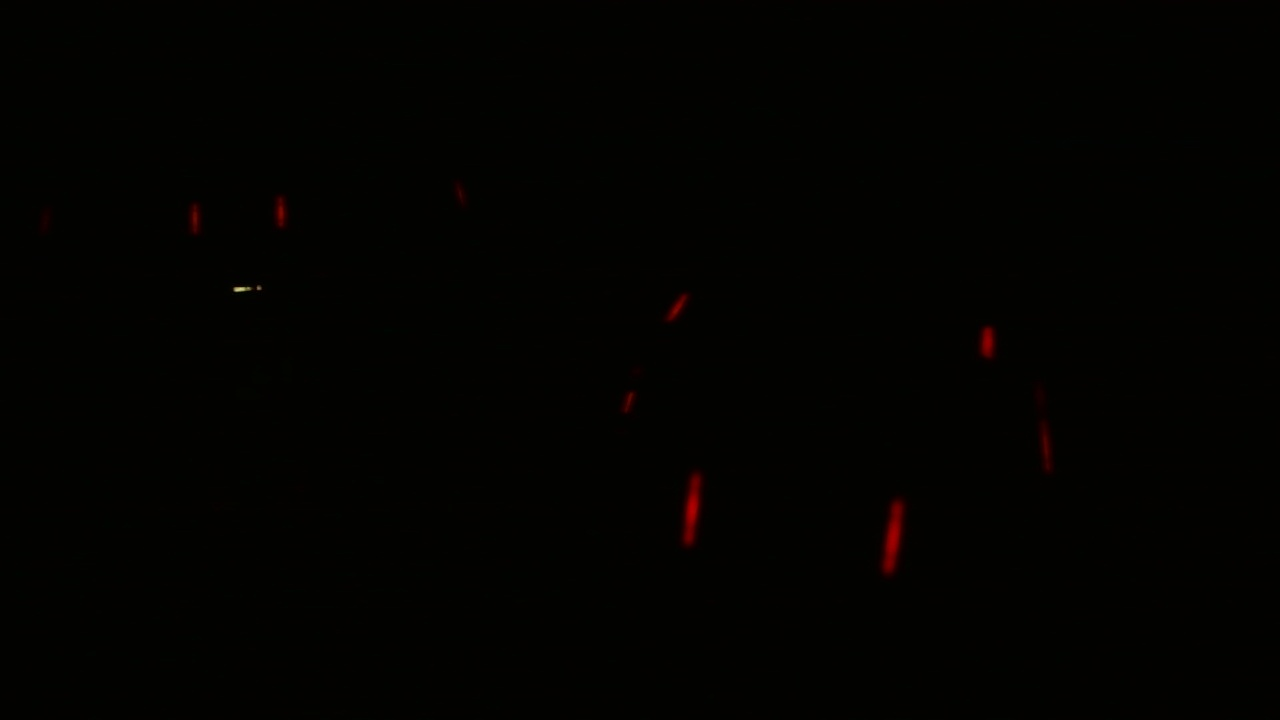pair1: (183, 182, 300, 246)
pair2: (671, 472, 911, 578)
